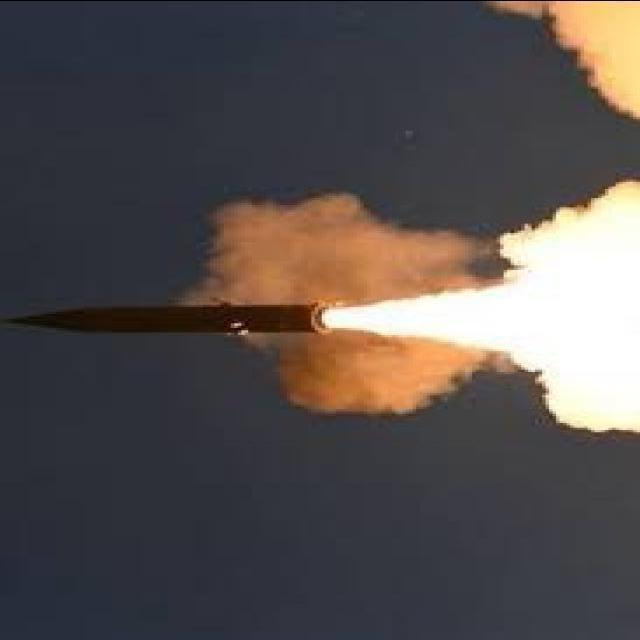missile: (7, 290, 344, 346)
